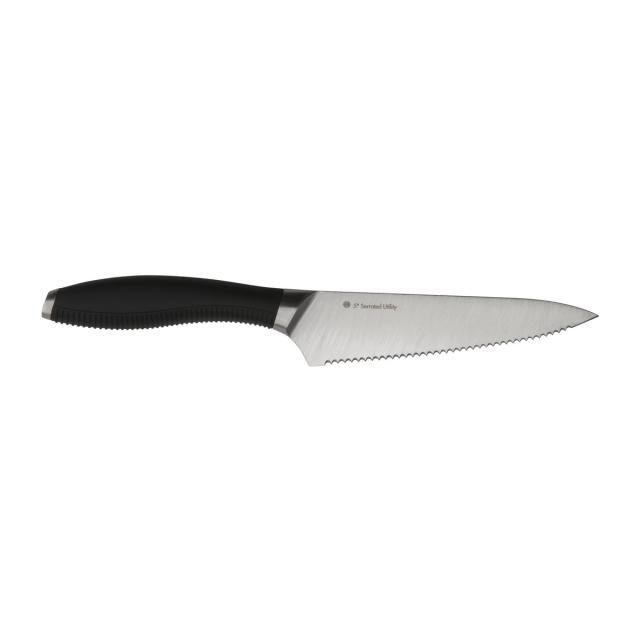Knife: (41, 273, 598, 366)
